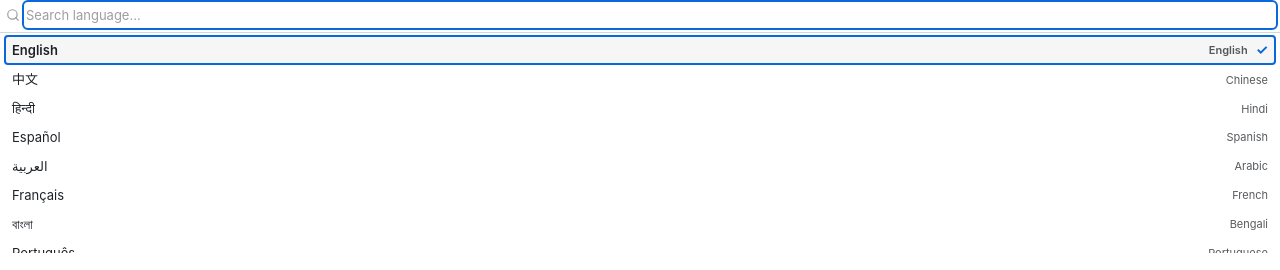
Scenario: LanguagePicker › empty state › shows 'No languages found' when filtering yields zero results
In the dropdown labelled "Search language": [650, 15] box [26,4,1274,26], type "xyz123nonexistent"
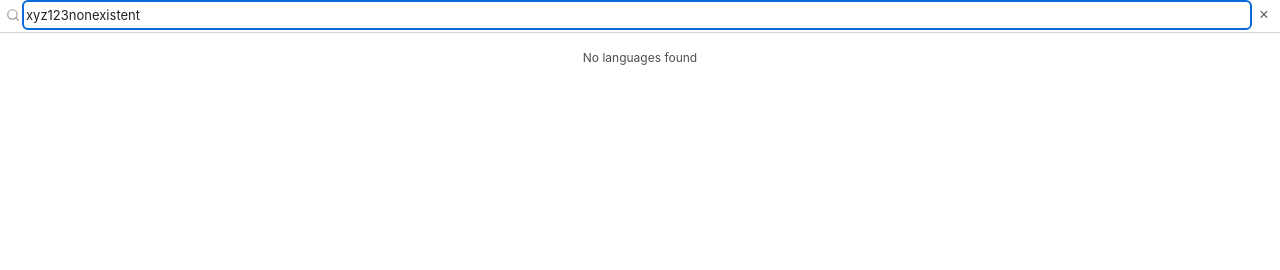
Expected: the text "No languages found" is shown, [583,50,697,65]
Expected: no options are shown
